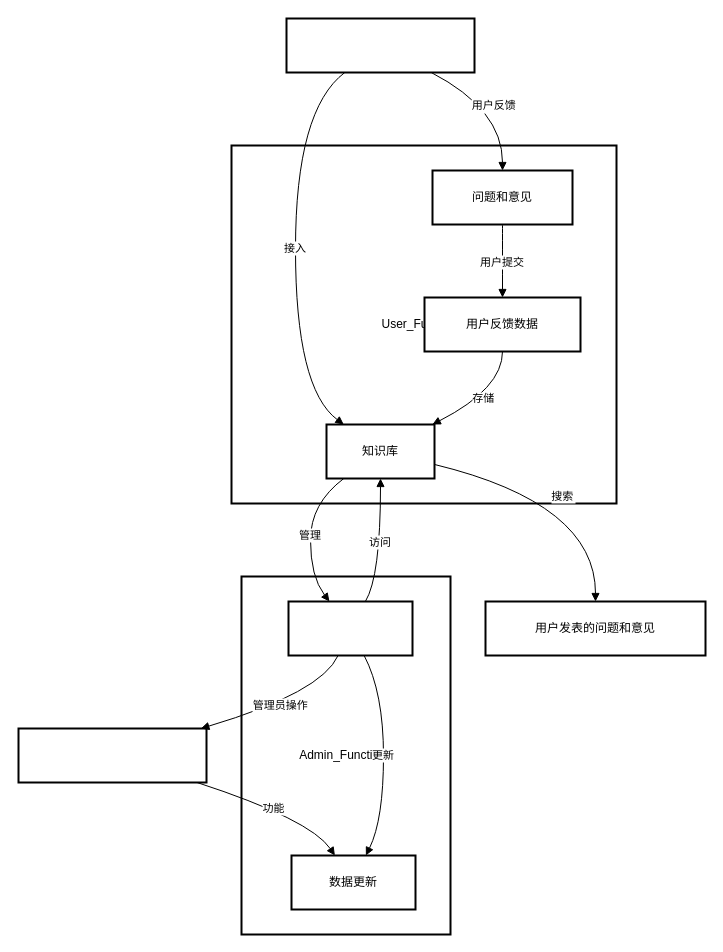
The diagram is 723 pixels wide and 952 high, and some of its shapes have lost their labels. The shapes that lost their labels are listed below. From the top down, each one's box as (x1, y1, x2, y2) in pixels, then its label:
(285, 17, 475, 73): 系统技术支持板块
(287, 600, 413, 656): 管理界面
(17, 727, 207, 783): 知识库建设和维护
